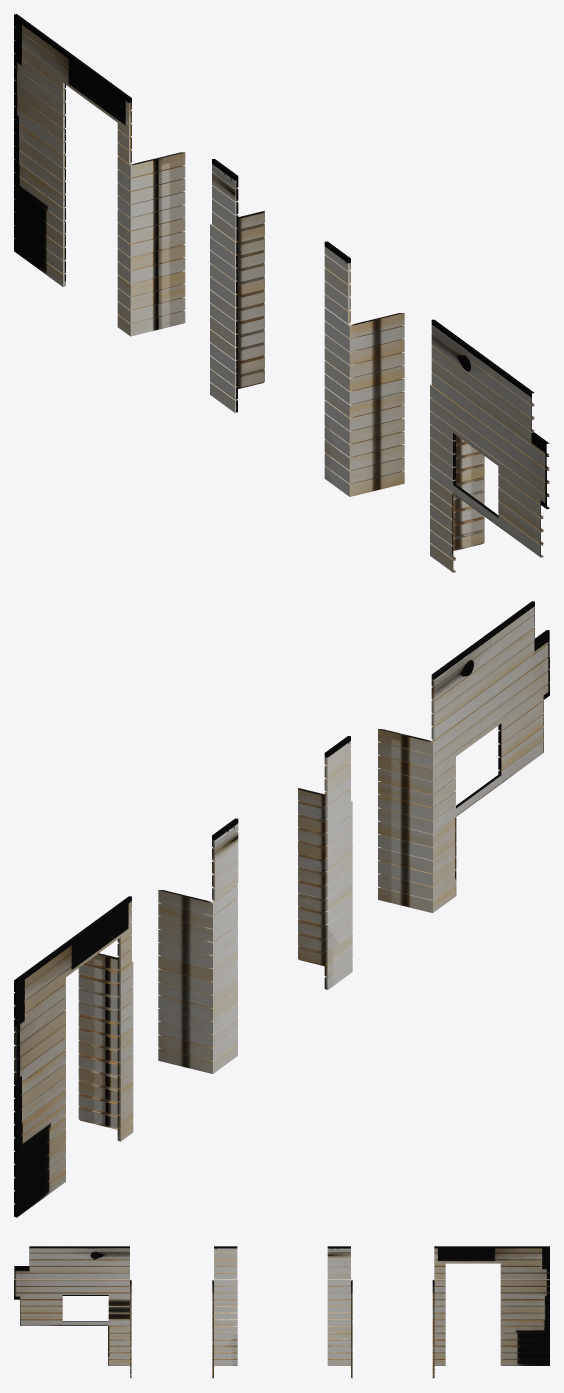
Rendered from bakeTest.glb.
The picture shows the model from 3 angles, top to bottom: view 1: azimuth 30°, elevation 25°; view 2: azimuth 150°, elevation 25°; view 3: azimuth 270°, elevation 25°; orthographic projection. The views are drawn at different scales.
Visible parts, largest first — view 1: wooden planks wall; view 2: wooden planks wall; view 3: wooden planks wall.
Part boxes in pixels (x1,y1,x2,y2): wooden planks wall: (14, 14, 549, 572); wooden planks wall: (14, 601, 549, 1217); wooden planks wall: (14, 1246, 549, 1378).
Bounding box in the file's own units: 0.7118 × 2.94 × 11.99.
1 material, 1 textured.
